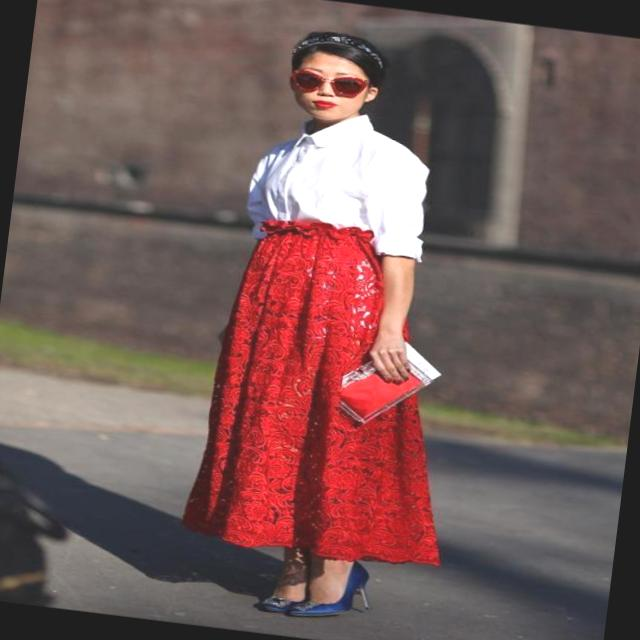shirt: (241, 101, 442, 263)
skirt: (181, 207, 482, 571)
